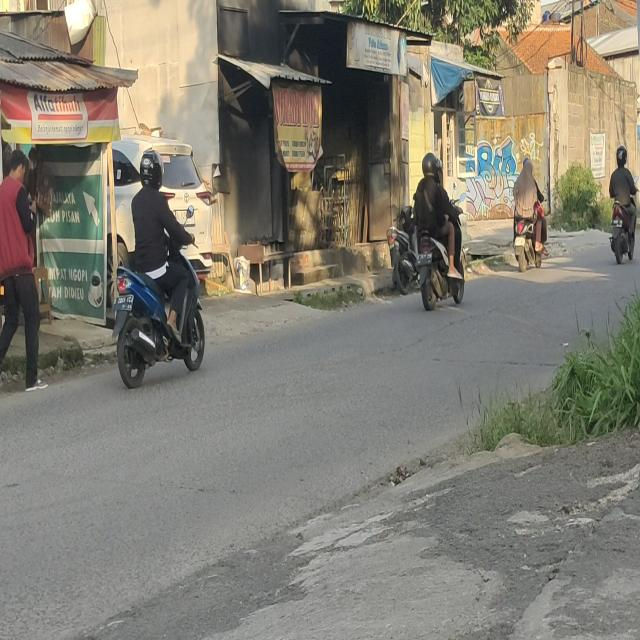helmet: (139, 146, 164, 189), (421, 152, 437, 177), (433, 156, 443, 181), (616, 146, 626, 166)
no-helmet: (522, 160, 533, 178)
